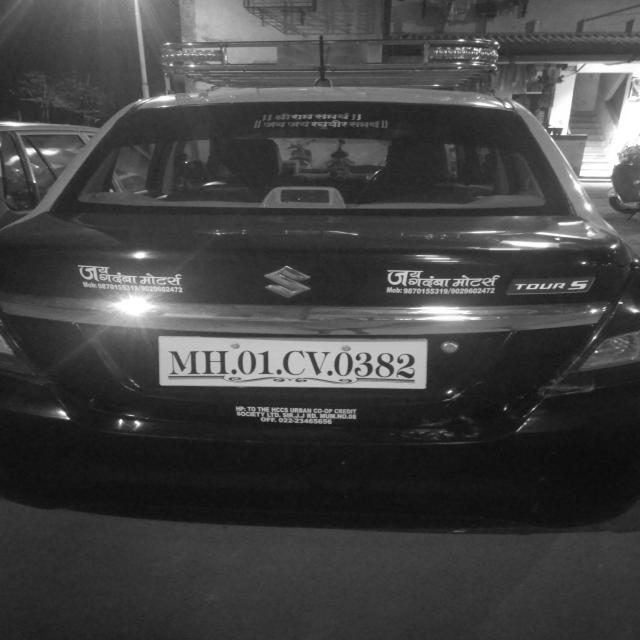car: (3, 86, 640, 523)
license-plate: (158, 333, 432, 386)
